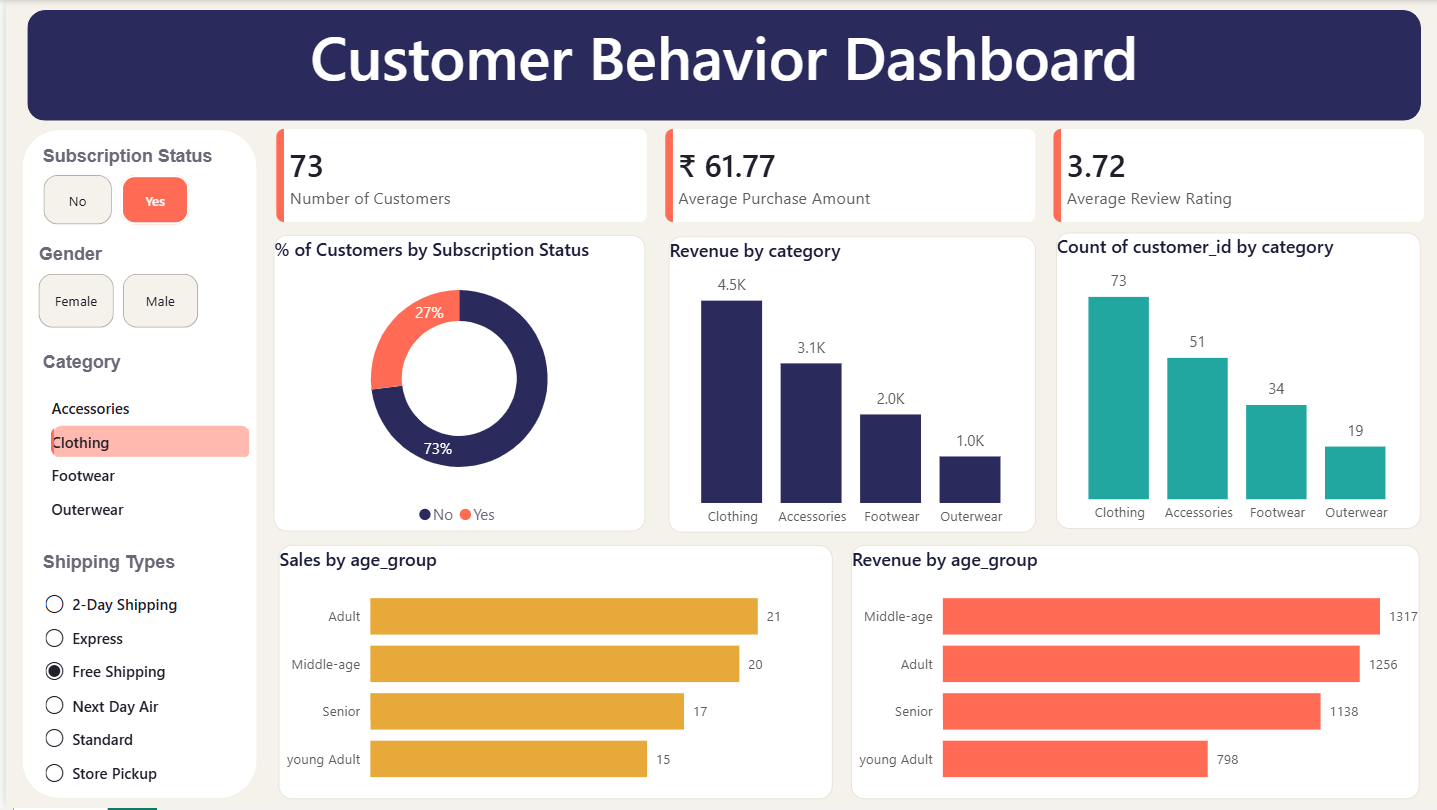

This screenshot's page, from the dashboard's own definition file:
{"tool":"powerbi","page":{"name":"Page 1","canvas":[1280,720],"ordinal":0},"visuals":[{"type":"cardVisual","fields":{"Data":["customer_behavior customer.Number of Customers","customer_behavior customer.Average Purchase Amount","customer_behavior customer.Average Review Rating"]},"box":[223.8,97.5,1056.2,117],"z":0},{"type":"shape","box":[18.8,8.8,1241.2,98.8],"z":1000},{"type":"textbox","box":[18.8,8.8,1241.2,98.8],"z":2000},{"type":"donutChart","title":"% of Customers by Subscription Status","fields":{"Y":["CountNonNull(customer_behavior customer.customer_id)"],"Category":["customer_behavior customer.subscription_status"]},"box":[238.8,208.8,331.2,263.8],"z":3000},{"type":"columnChart","fields":{"Y":["customer_behavior customer.Revenue"],"Category":["customer_behavior customer.category"]},"box":[590,210,327.5,263.8],"z":4000},{"type":"columnChart","fields":{"Category":["customer_behavior customer.category"],"Y":["CountNonNull(customer_behavior customer.customer_id)"]},"box":[935,207.5,325,263.8],"z":5000},{"type":"barChart","fields":{"Y":["customer_behavior customer.Revenue"],"Category":["customer_behavior customer.age_group"]},"box":[752.5,485,506.2,226.2],"z":6000},{"type":"barChart","fields":{"Category":["customer_behavior customer.age_group"],"Y":["CountNonNull(customer_behavior customer.customer_id)"]},"box":[242.5,485,493.8,226.2],"z":7000},{"type":"shape","box":[15,116.2,208.8,595],"z":8000},{"type":"advancedSlicerVisual","fields":{"Values":["customer_behavior customer.subscription_status"]},"box":[33.8,155.6,199.1,44.6],"z":9000},{"type":"textbox","box":[27.5,123.8,198.8,32.5],"z":10000},{"type":"advancedSlicerVisual","fields":{"Values":["customer_behavior customer.gender"]},"box":[29,243.7,217.2,48.3],"z":11000},{"type":"textbox","box":[25,210,217.5,33.8],"z":12000},{"type":"textbox","box":[27.5,307.5,217.5,32.5],"z":13000},{"type":"listSlicer","fields":{"Values":["customer_behavior customer.category"]},"box":[25,342.5,198.8,142.5],"z":14000},{"type":"listSlicer","fields":{"Values":["customer_behavior customer.shipping_type"]},"box":[28.8,517.5,198.8,193.8],"z":15000},{"type":"textbox","box":[27.5,485,217.5,32.5],"z":16000}]}

Visuals, with their boxes in screenshot pixels (x1, y1, x2, y2), scaled from the page's 1280x720 canvas onto the 1437x810 screenshot:
cardVisual - customer_behavior customer.Number of Customers x customer_behavior customer.Average Purchase Amount: box=[251, 110, 1436, 241]
shape: box=[21, 10, 1415, 121]
textbox: box=[21, 10, 1415, 121]
"% of Customers by Subscription Status" donutChart: box=[268, 235, 640, 532]
columnChart - customer_behavior customer.Revenue x customer_behavior customer.category: box=[662, 236, 1030, 533]
columnChart - customer_behavior customer.category x CountNonNull(customer_behavior customer.customer_id): box=[1050, 233, 1415, 530]
barChart - customer_behavior customer.Revenue x customer_behavior customer.age_group: box=[845, 546, 1413, 800]
barChart - customer_behavior customer.age_group x CountNonNull(customer_behavior customer.customer_id): box=[272, 546, 827, 800]
shape: box=[17, 131, 251, 800]
advancedSlicerVisual - customer_behavior customer.subscription_status: box=[38, 175, 261, 225]
textbox: box=[31, 139, 254, 176]
advancedSlicerVisual - customer_behavior customer.gender: box=[33, 274, 276, 328]
textbox: box=[28, 236, 272, 274]
textbox: box=[31, 346, 275, 382]
listSlicer - customer_behavior customer.category: box=[28, 385, 251, 546]
listSlicer - customer_behavior customer.shipping_type: box=[32, 582, 256, 800]
textbox: box=[31, 546, 275, 582]
